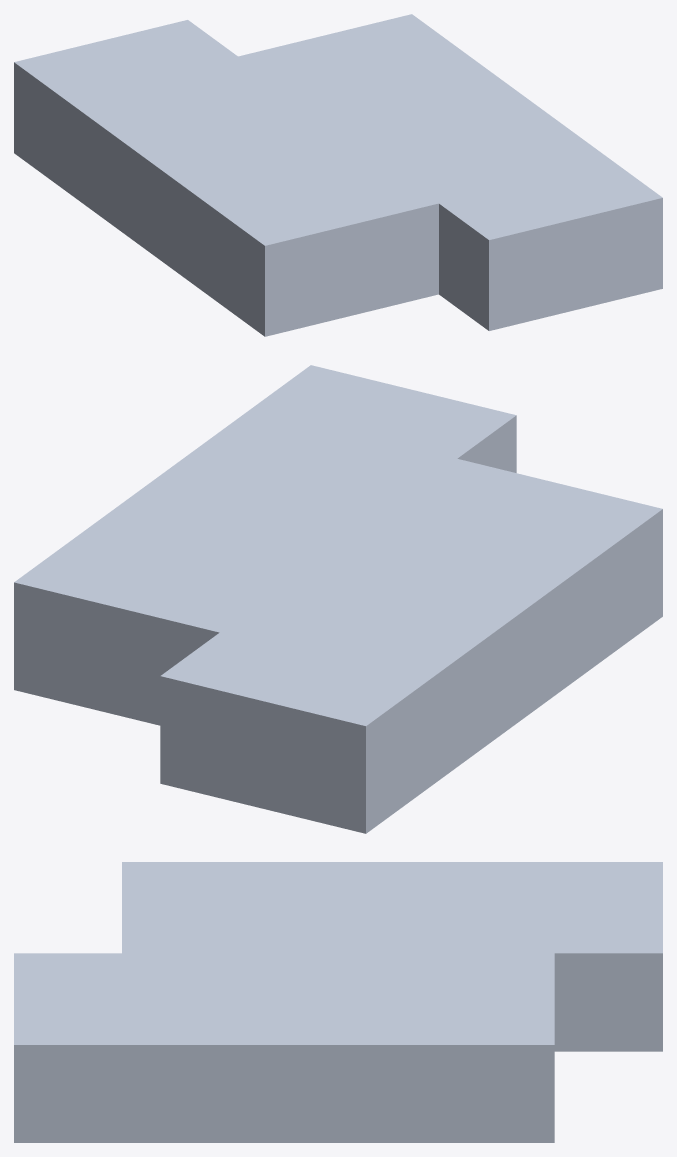
The model's file is nuvem2.fbx.
3 renders of one model, top to bottom at view 1: azimuth 30°, elevation 25°; view 2: azimuth 150°, elevation 25°; view 3: azimuth 270°, elevation 25°, orthographic. The views are drawn at different scales.
Parts seen in each view (by area): view 1: Cube.012; view 2: Cube.012; view 3: Cube.012.
Part boxes in pixels (x1,y1,x2,y2): Cube.012: (14, 14, 662, 336); Cube.012: (14, 365, 662, 833); Cube.012: (14, 862, 662, 1142).
Bounding box in the file's own units: 400 × 100 × 600.
